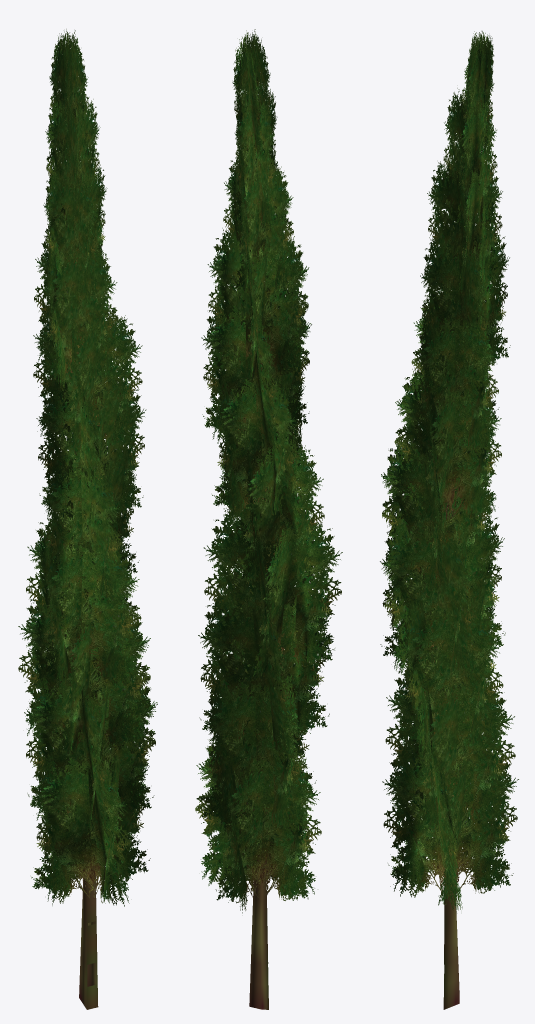
The model's file is flora_tree_cypress_wild_v4.glb.
The picture shows the model from 3 angles, left to right: view 1: azimuth 30°, elevation 25°; view 2: azimuth 150°, elevation 25°; view 3: azimuth 270°, elevation 25°; orthographic projection. The views are drawn at different scales.
Visible parts, largest first — view 1: flora_tree_cypress_wild_v4_part0; view 2: flora_tree_cypress_wild_v4_part0; view 3: flora_tree_cypress_wild_v4_part0.
Part boxes in pixels (left/top/right/bottom): flora_tree_cypress_wild_v4_part0: left=18, top=29, right=157, bottom=1009; flora_tree_cypress_wild_v4_part0: left=195, top=29, right=342, bottom=1009; flora_tree_cypress_wild_v4_part0: left=380, top=31, right=518, bottom=1009.
Bounding box in the file's own units: 2.9 × 20.73 × 2.8.
1 material, 1 textured.
